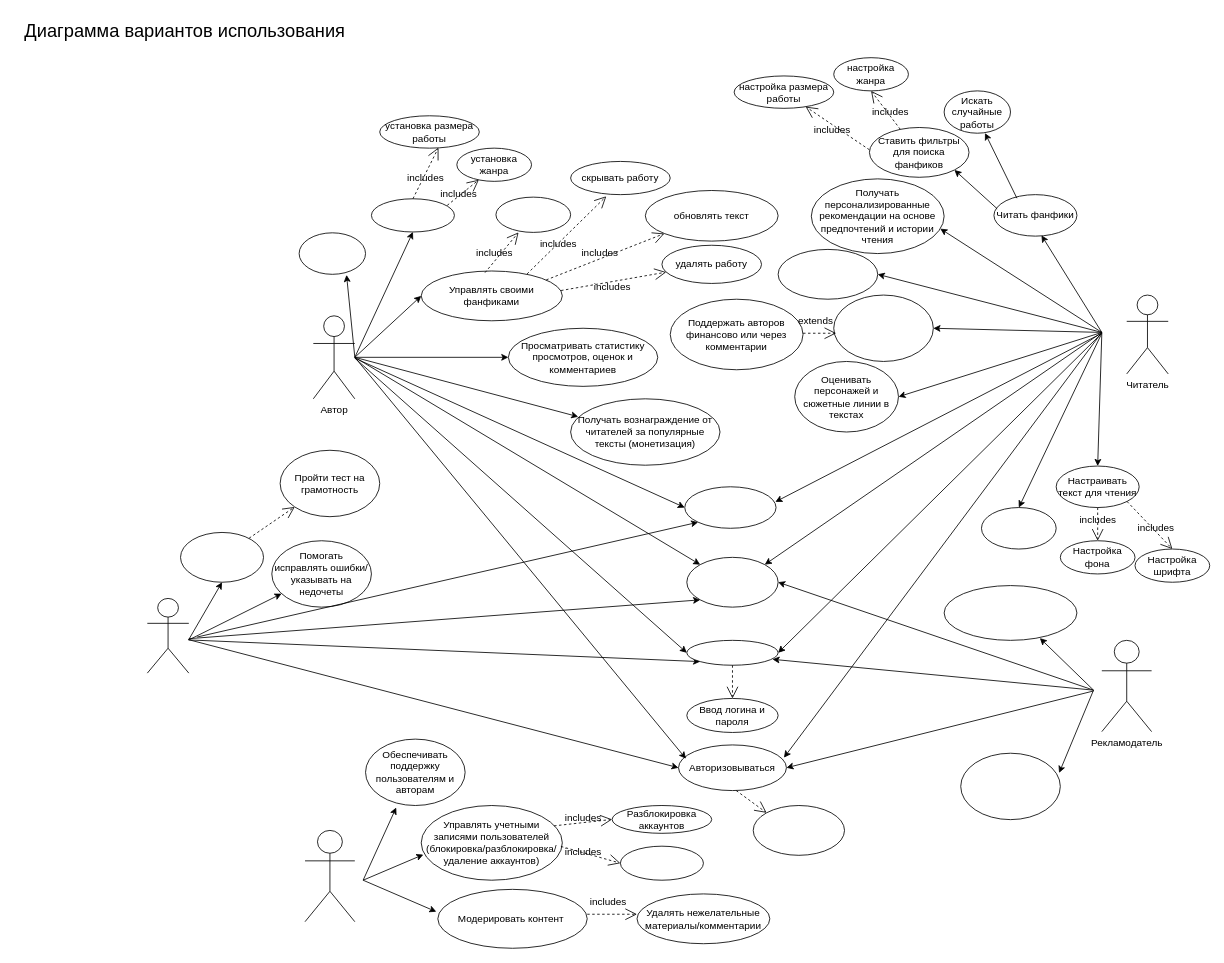
Image size: 1224x963. Some labels were removed from this diagram. The box of each missing label's shape, as (x1, y1, x2, y2) in pixels:
Администратор: (304, 830, 355, 922)
Бета - ридер: (146, 598, 189, 673)
Блокировка аккаунтов: (620, 845, 703, 880)
Вести диалог/беседу: (684, 486, 776, 528)
Находить бета - ридеров: (298, 232, 366, 274)
Обращаться в тех. поддержку: (686, 557, 778, 607)
Подписываться на авторов: (777, 249, 878, 299)
Покупать монеты для поддержки авторов: (833, 294, 933, 361)
Получать отчеты о производительности своей рекламы: (960, 752, 1060, 820)
Публиковать фанфики: (371, 198, 454, 232)
Размещать рекламные материалы и рекламу: (943, 585, 1077, 640)
Регистрироваться: (686, 640, 778, 665)
Редактировать профиль: (752, 805, 845, 855)
Редактировать текст: (495, 196, 571, 232)
Скачивать фанфики: (981, 507, 1056, 549)
Читать работы перед публикацией: (180, 532, 264, 582)
